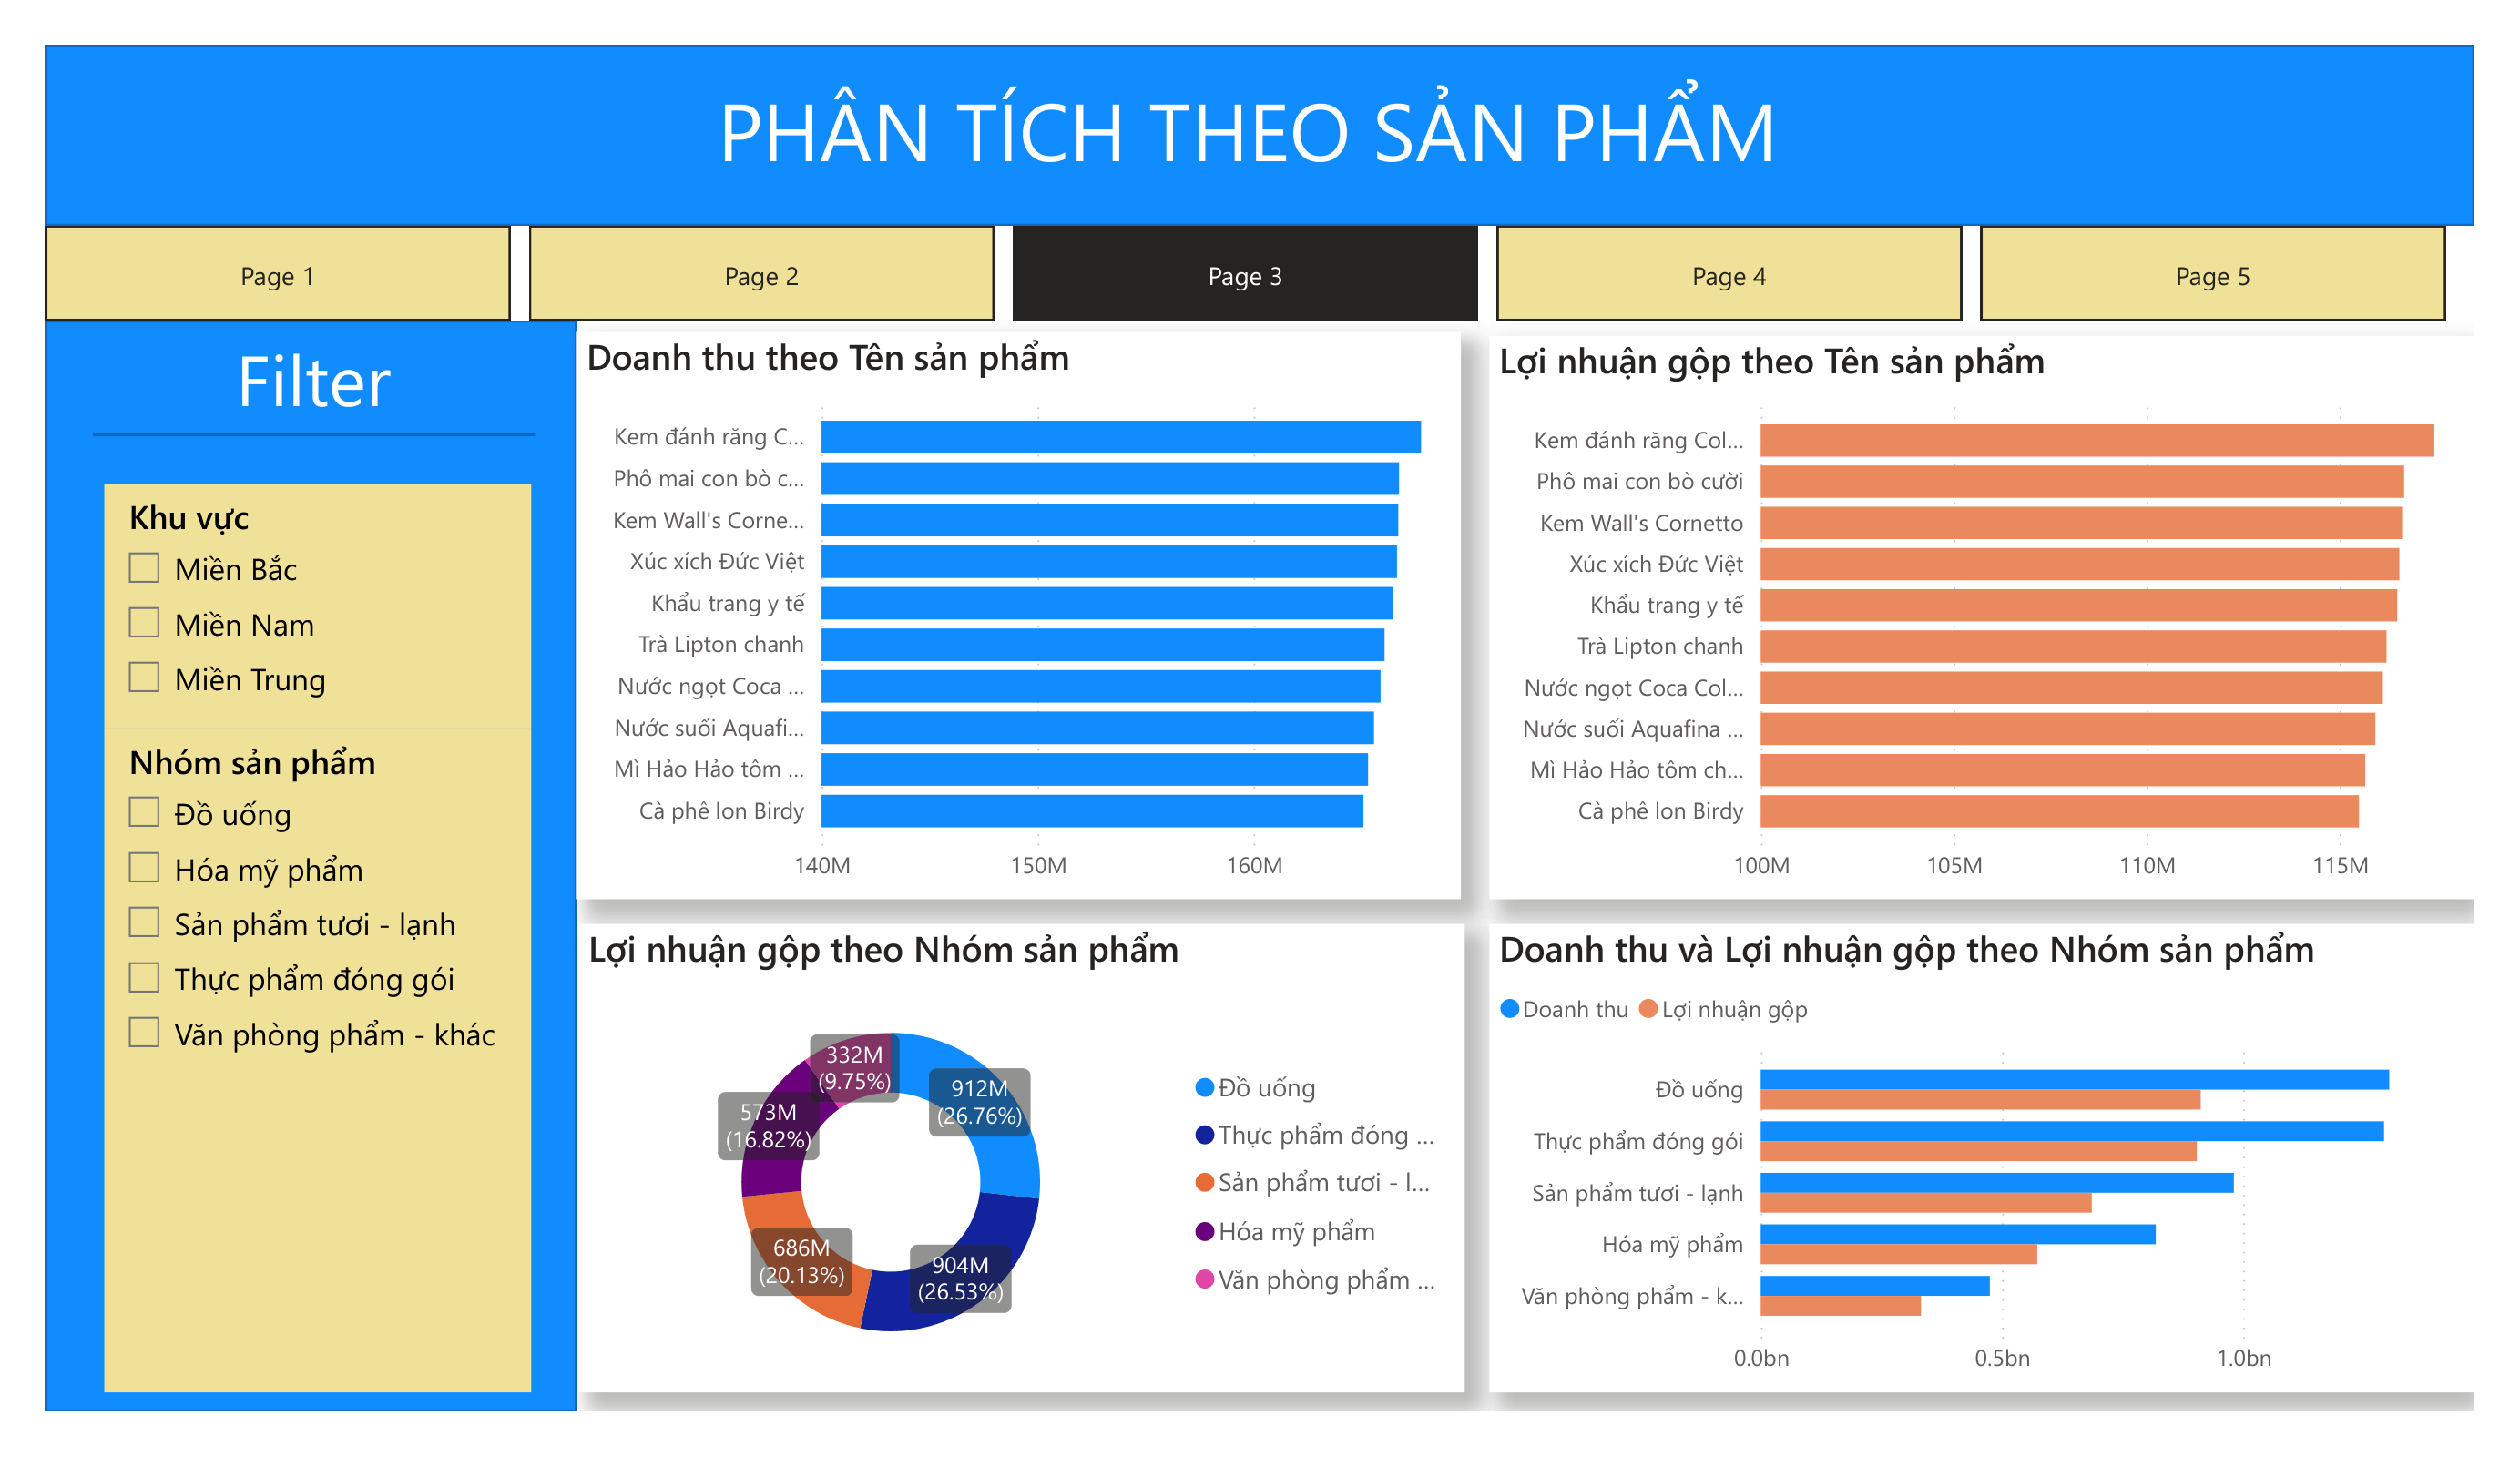

This screenshot's page, from the dashboard's own definition file:
{"tool":"powerbi","page":{"name":"Page 3","canvas":[1280,720],"ordinal":2},"visuals":[{"type":"shape","box":[0,145,280,575],"z":0},{"type":"textbox","box":[31.7,145,218.3,60],"z":1000},{"type":"shape","box":[25,193.3,233.3,23.3],"z":2000},{"type":"slicer","fields":{"Values":["dim_product.Nhóm sản phẩm"]},"box":[31.2,360,225,350],"z":3000},{"type":"slicer","fields":{"Values":["dim_store.Khu vực"]},"box":[31.2,231.2,225,128.8],"z":4000},{"type":"pageNavigator","box":[0,95,1268.8,50],"z":5000},{"type":"shape","box":[0,0,1280,95],"z":6000},{"type":"textbox","box":[348.8,10,611.2,75],"z":7000},{"type":"clusteredBarChart","title":"Doanh thu theo Tên sản phẩm","fields":{"Category":["dim_product.Tên sản phẩm"],"Y":["M.Doanh thu"]},"box":[280,151.2,466.2,298.8],"z":8000},{"type":"clusteredBarChart","title":"Lợi nhuận gộp theo Tên sản phẩm","fields":{"Category":["dim_product.Tên sản phẩm"],"Y":["M.Lợi nhuận gộp"]},"box":[761.2,152.5,518.8,297.5],"z":9000},{"type":"donutChart","title":"Lợi nhuận gộp theo Nhóm sản phẩm","fields":{"Category":["dim_product.Nhóm sản phẩm"],"Y":["M.Lợi nhuận gộp"]},"box":[281.2,462.5,466.2,247.5],"z":10000},{"type":"clusteredBarChart","title":"Doanh thu và Lợi nhuận gộp theo Nhóm sản phẩm","fields":{"Category":["dim_product.Nhóm sản phẩm"],"Y":["M.Doanh thu","M.Lợi nhuận gộp"]},"box":[761.2,462.5,518.8,247.5],"z":11000}]}

Visuals, with their boxes on the page's 1280x720 design canvas (x1, y1, x2, y2). These are canvas units, not pixel positions in the 2520x1457 screenshot, which may show the page scaled, cropped or inside an application window:
shape: region(0, 145, 280, 720)
textbox: region(32, 145, 250, 205)
shape: region(25, 193, 258, 217)
slicer - dim_product.Nhóm sản phẩm: region(31, 360, 256, 710)
slicer - dim_store.Khu vực: region(31, 231, 256, 360)
pageNavigator: region(0, 95, 1269, 145)
shape: region(0, 0, 1280, 95)
textbox: region(349, 10, 960, 85)
"Doanh thu theo Tên sản phẩm" clusteredBarChart: region(280, 151, 746, 450)
"Lợi nhuận gộp theo Tên sản phẩm" clusteredBarChart: region(761, 152, 1280, 450)
"Lợi nhuận gộp theo Nhóm sản phẩm" donutChart: region(281, 462, 747, 710)
"Doanh thu và Lợi nhuận gộp theo Nhóm sản phẩm" clusteredBarChart: region(761, 462, 1280, 710)
